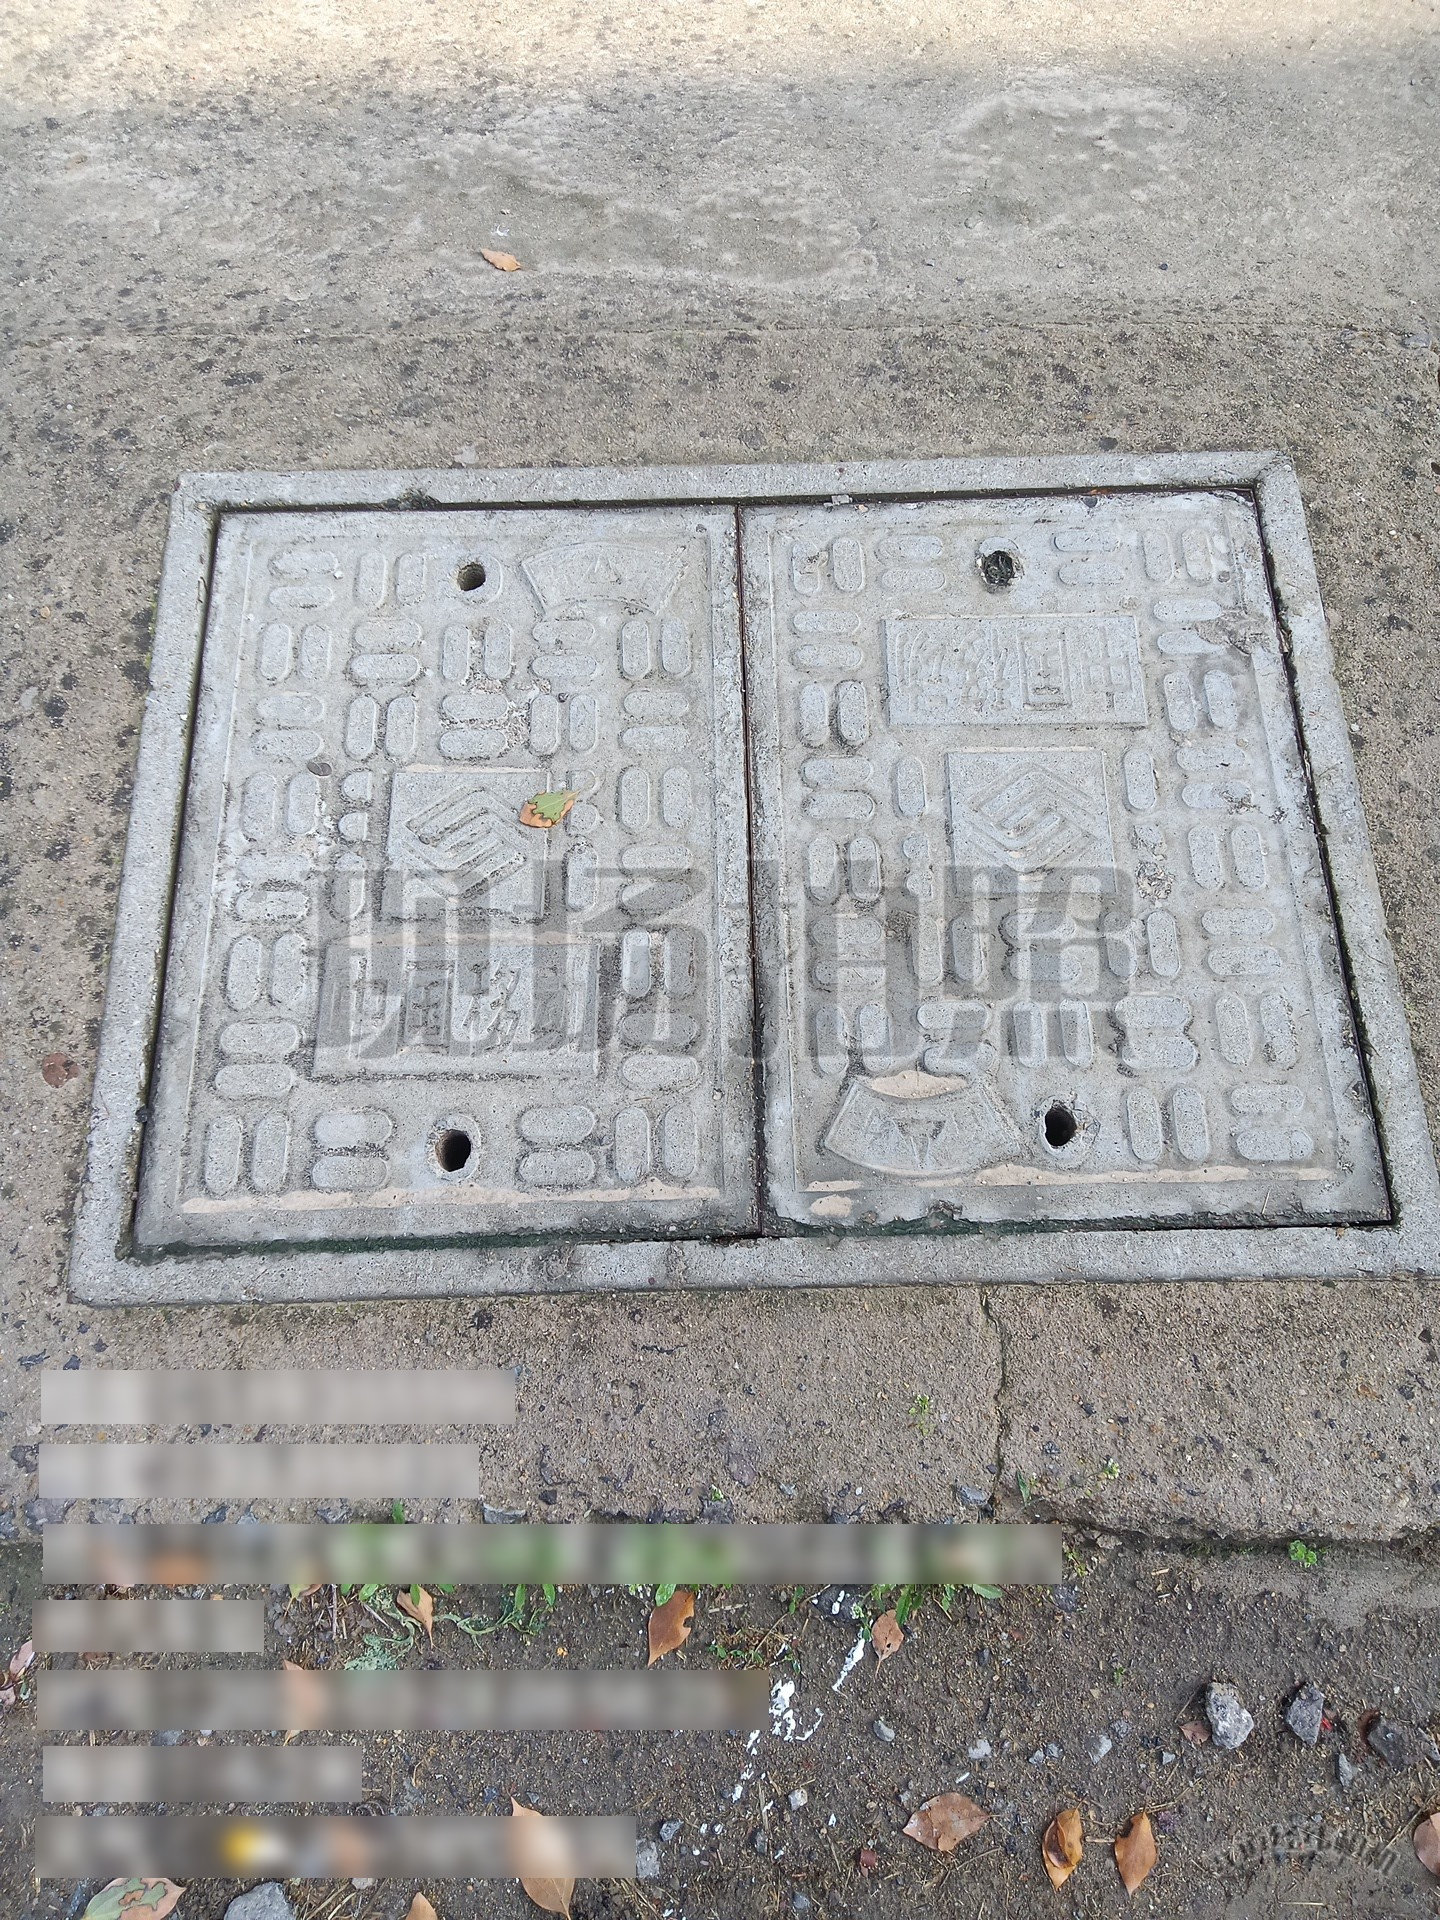good: (67, 451, 1440, 1305)
